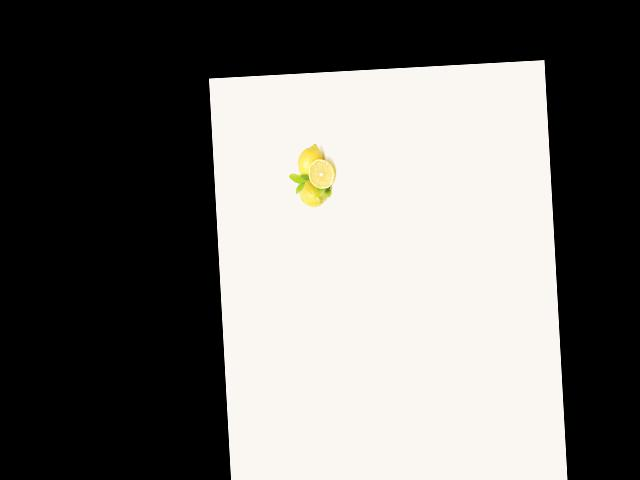lemon: (296, 175, 330, 210)
